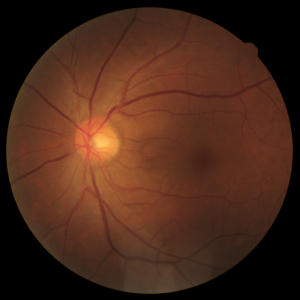healthy_eye: (35, 89, 241, 196)
